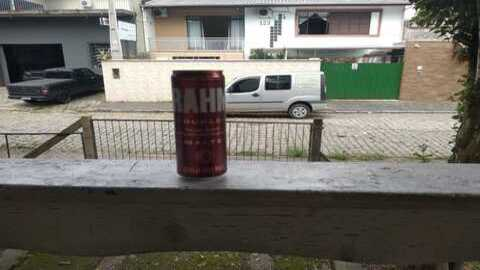duplo_malte: (168, 70, 227, 179)
